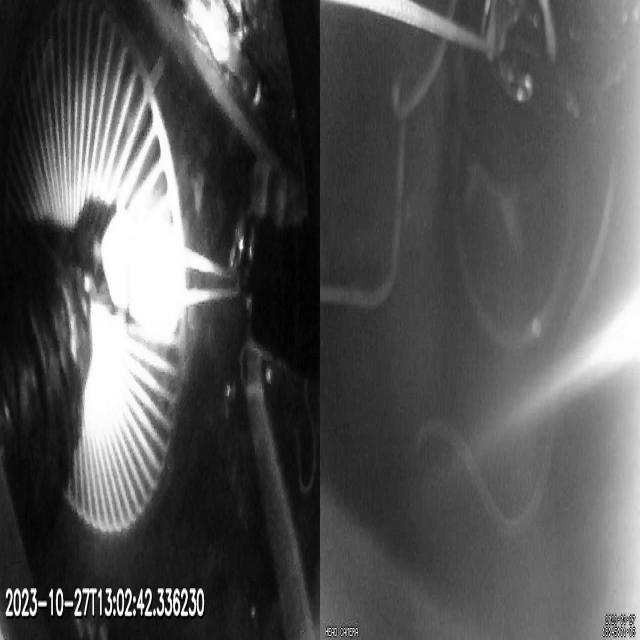head: (103, 211, 185, 333)
